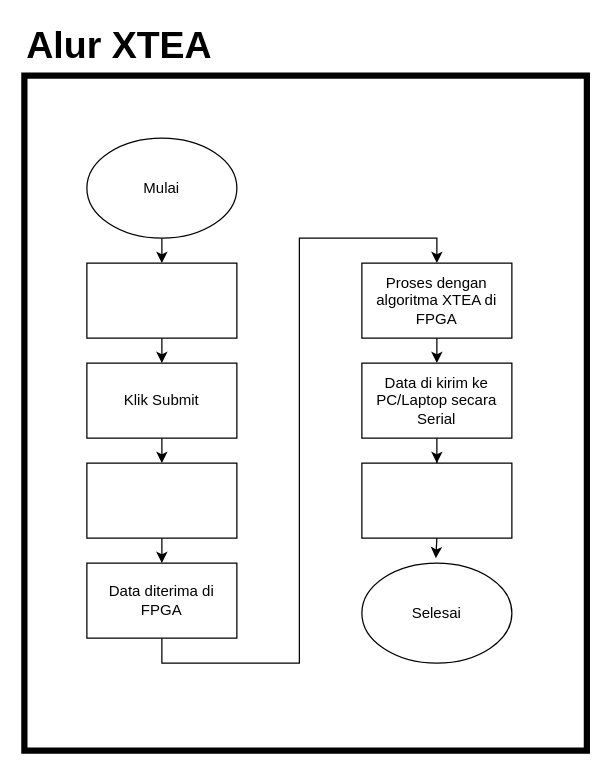
Some shapes in this 611 by 775 pixel diagram are drawn without their labels. The shapes that lost their labels are listed below. From the top down, each one's centre as x and y in pixels, then its label:
pixel 161 300: Input data di PC/Laptop
pixel 161 500: Data dikirim ke FPGA secara Serial
pixel 436 500: Data dibaca dan disimpan di PC/Laptop
